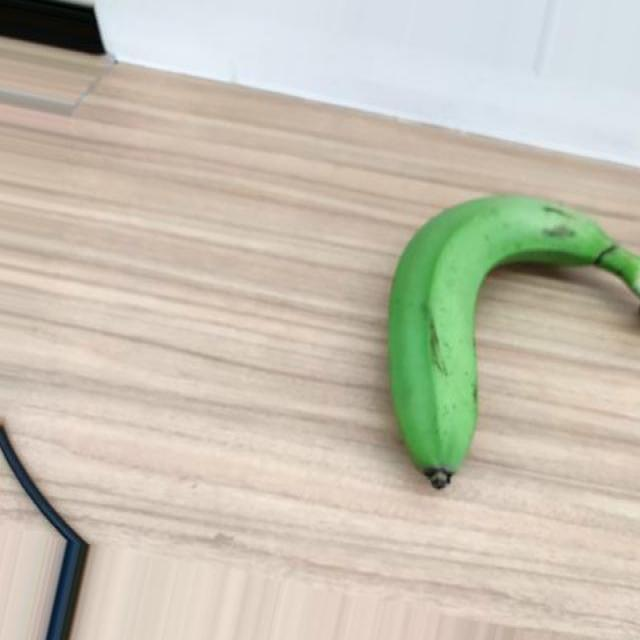Unripe: (387, 192, 640, 494)
